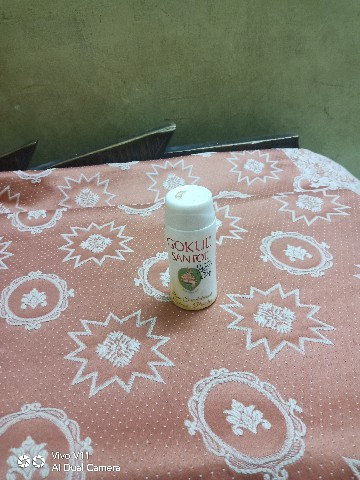gokulsantol small: (153, 172, 224, 321)
